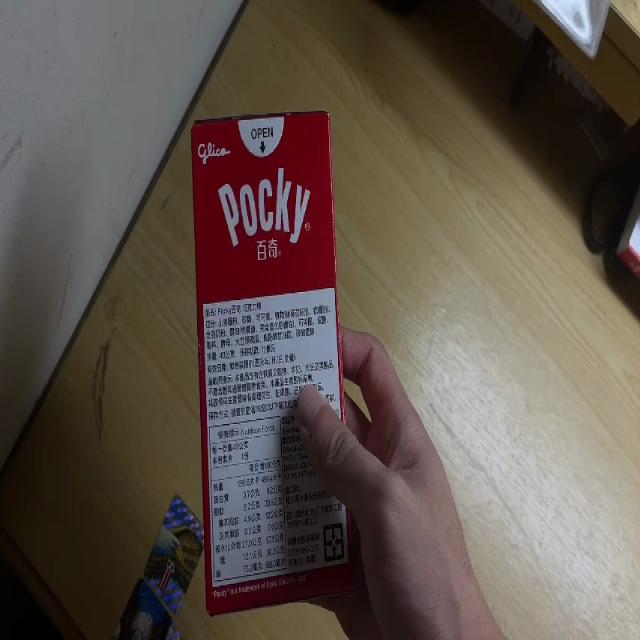Pocky: (192, 110, 362, 615)
